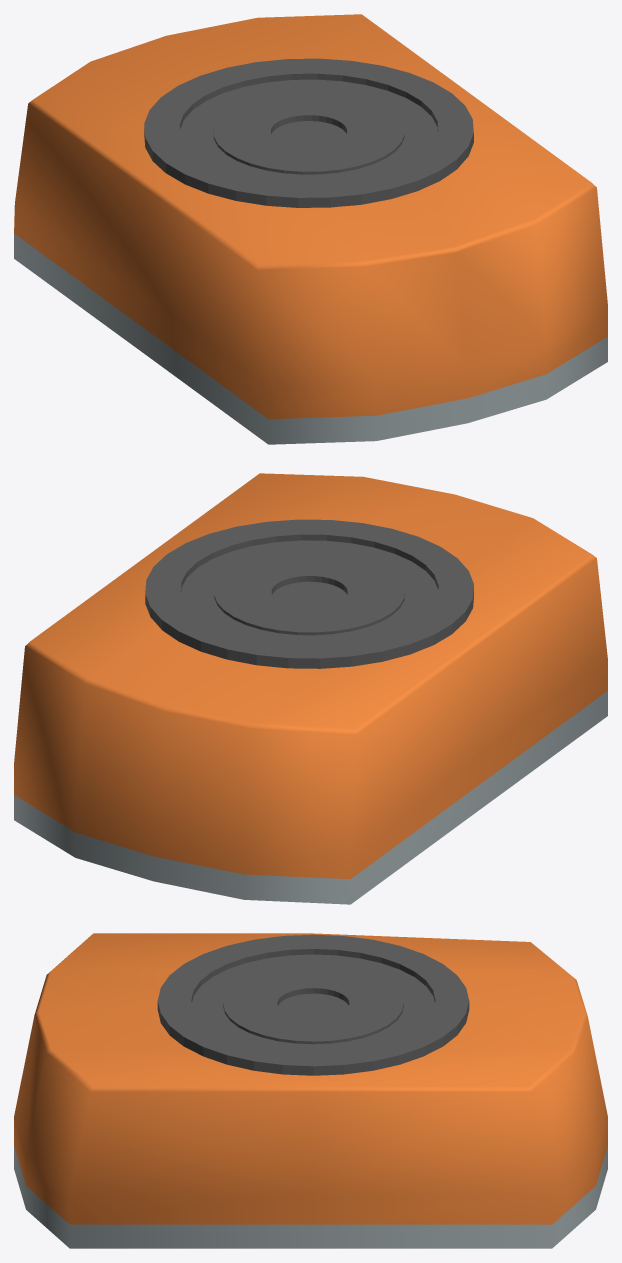
File: roomba2.gltf
The picture shows the model from 3 angles, top to bottom: view 1: azimuth 30°, elevation 25°; view 2: azimuth 150°, elevation 25°; view 3: azimuth 270°, elevation 25°; orthographic projection. The views are drawn at different scales.
Visible parts, largest first — view 1: Body, Lifter; view 2: Body, Lifter; view 3: Body, Lifter.
Boxes of the visible parts, x1,y1,x2,y2 form: Body: [14, 14, 607, 444]; Lifter: [144, 58, 473, 207]; Body: [14, 473, 607, 904]; Lifter: [145, 519, 473, 668]; Body: [14, 933, 607, 1248]; Lifter: [157, 934, 469, 1075].
Size of the model in its own units: 1.6 by 0.8195 by 2.57.
